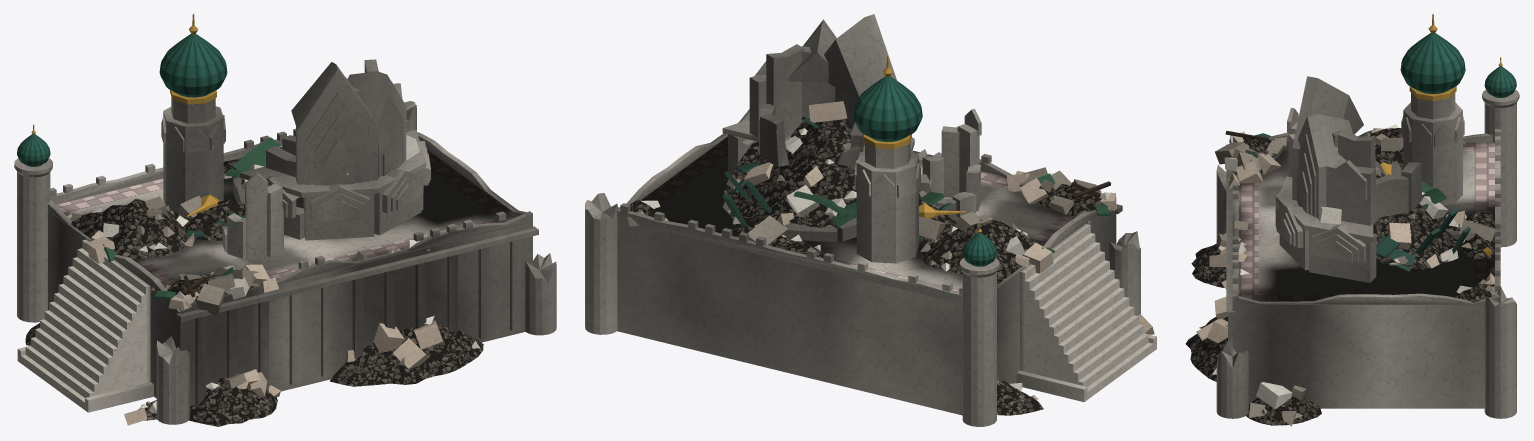
File: CreBuild01a.glb
3 renders of one model, left to right at view 1: azimuth 30°, elevation 25°; view 2: azimuth 150°, elevation 25°; view 3: azimuth 270°, elevation 25°, orthographic. The views are drawn at different scales.
Visible parts, largest first — view 1: marble; view 2: marble; view 3: marble.
Boxes of the visible parts, x1,y1,x2,y2 form: marble: (14, 14, 556, 426); marble: (585, 14, 1156, 426); marble: (1185, 14, 1519, 426).
Bounding box in the file's own units: 19.31 × 12.25 × 12.84.
6 materials, 5 textured.
